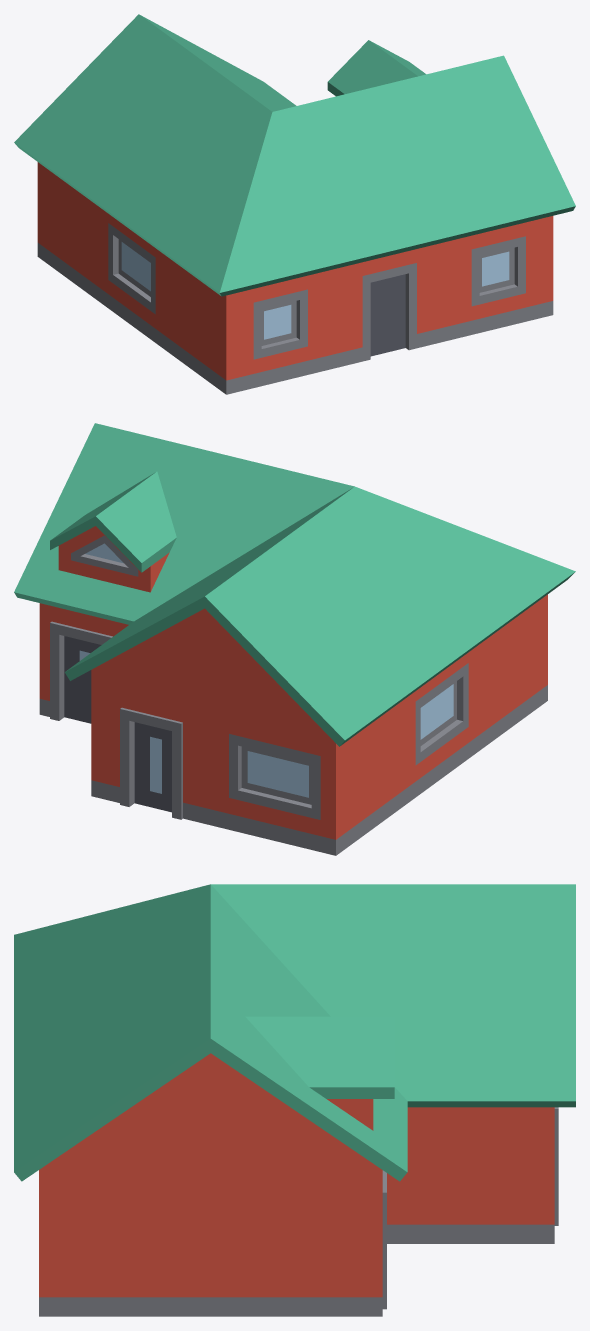
File: house_type05.dae
The picture shows the model from 3 angles, top to bottom: view 1: azimuth 30°, elevation 25°; view 2: azimuth 150°, elevation 25°; view 3: azimuth 270°, elevation 25°; orthographic projection. The views are drawn at different scales.
Parts seen in each view (by area): view 1: house_type05; view 2: house_type05; view 3: house_type05.
Boxes of the visible parts, x1,y1,x2,y2 form: house_type05: (14, 14, 575, 394); house_type05: (14, 423, 575, 855); house_type05: (14, 884, 575, 1316).
Size of the model in its own units: 1.31 by 0.7375 by 1.31.
